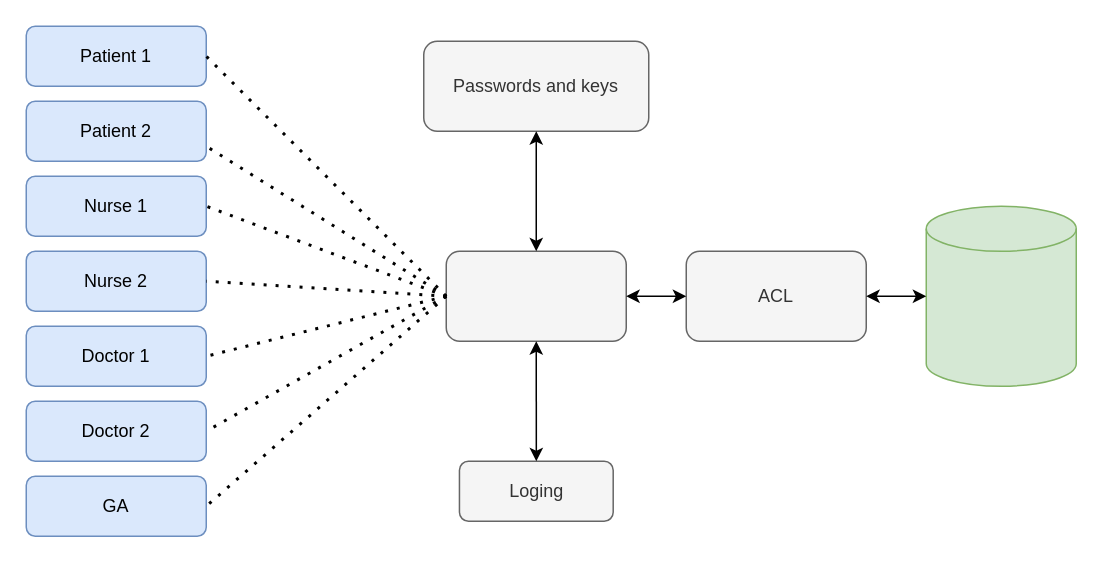
This 1103x563 diagram has some shape labels left out. Each missing label, with the centre of its shape:
"DB" belongs at (1000,295).
"Program running on server" belongs at (535,295).
